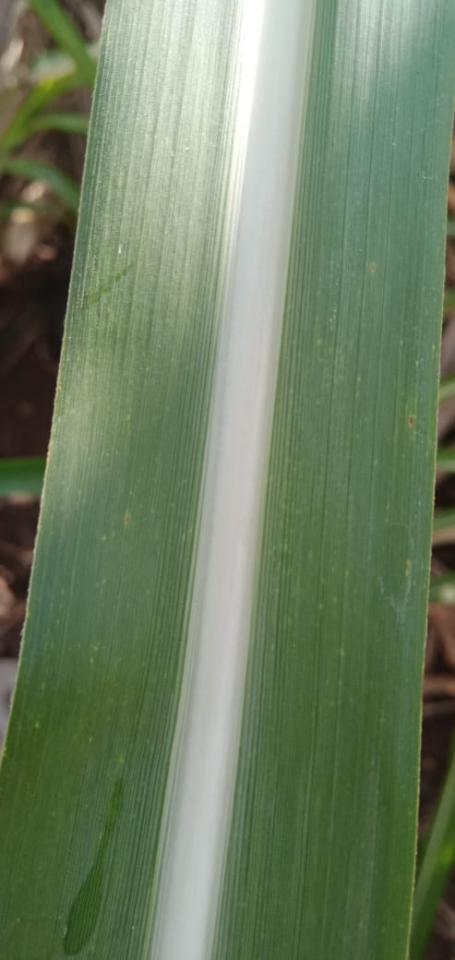Healthy: (0, 0, 450, 959)
